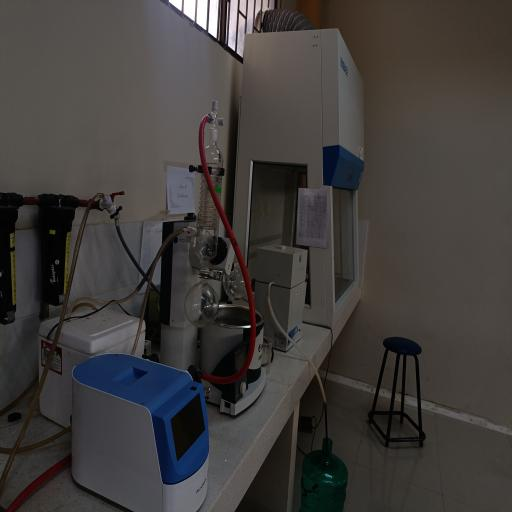Camara_Extractora_Biobase: (218, 12, 382, 345)
